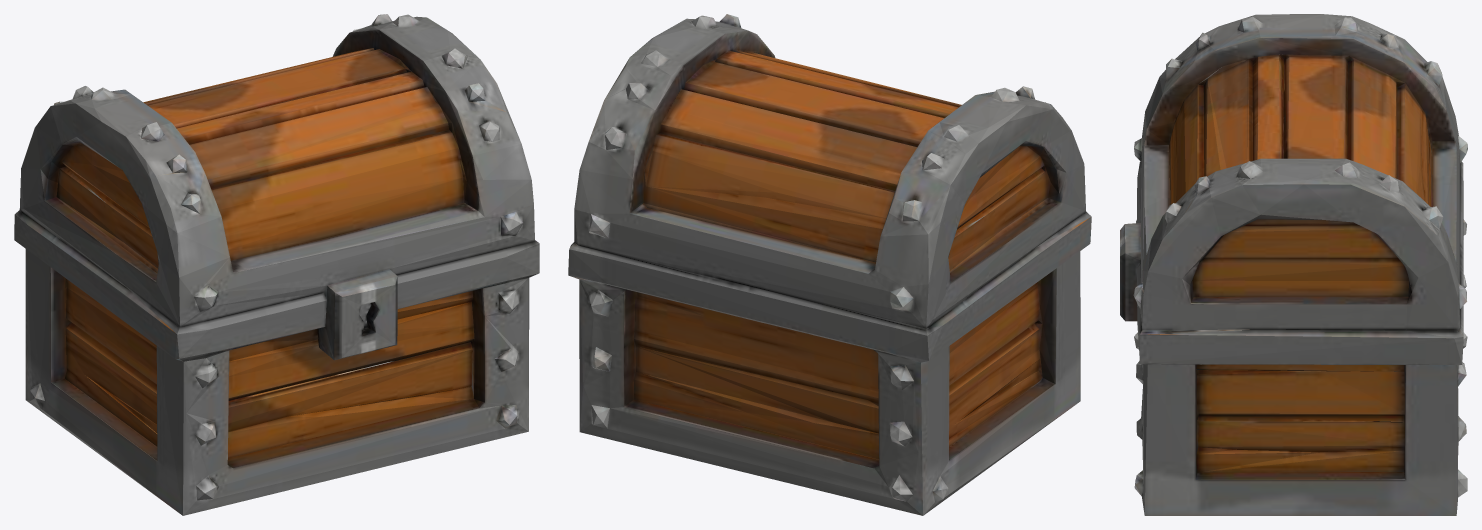
Rendered from chest_orange_metal_lod0.glb.
3 views of the same model, side by side, from view 1: azimuth 30°, elevation 25°; view 2: azimuth 150°, elevation 25°; view 3: azimuth 270°, elevation 25° (orthographic).
Parts seen in each view (by area): view 1: chest_orange_metal_lod0; view 2: chest_orange_metal_lod0; view 3: chest_orange_metal_lod0.
Boxes of the visible parts, x1,y1,x2,y2 form: chest_orange_metal_lod0: [14, 14, 539, 515]; chest_orange_metal_lod0: [568, 14, 1091, 515]; chest_orange_metal_lod0: [1120, 14, 1467, 515].
Bounding box in the file's own units: 0.8978 × 0.8303 × 0.7526.
1 material, 1 textured.
